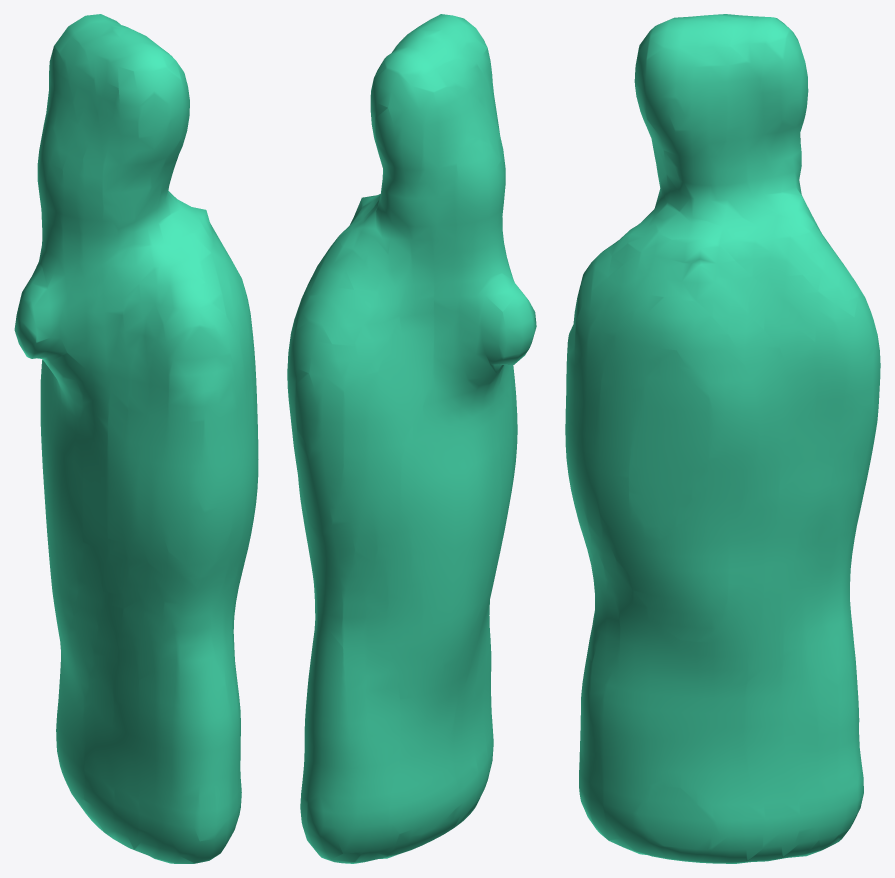
The picture shows the model from 3 angles, left to right: view 1: azimuth 30°, elevation 25°; view 2: azimuth 150°, elevation 25°; view 3: azimuth 270°, elevation 25°; orthographic projection.
Parts seen in each view (by area): view 1: Liquid_Domain; view 2: Liquid_Domain; view 3: Liquid_Domain.
Boxes of the visible parts, <box> form: Liquid_Domain: <box>14,14,258,863</box>; Liquid_Domain: <box>287,14,536,863</box>; Liquid_Domain: <box>565,14,880,863</box>.
Bounding box in the file's own units: 2.09 × 7.59 × 2.67.
